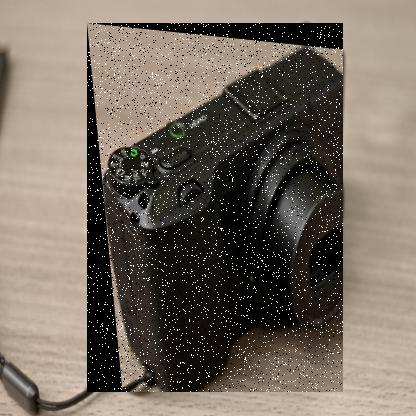Camera: (88, 24, 345, 394)
